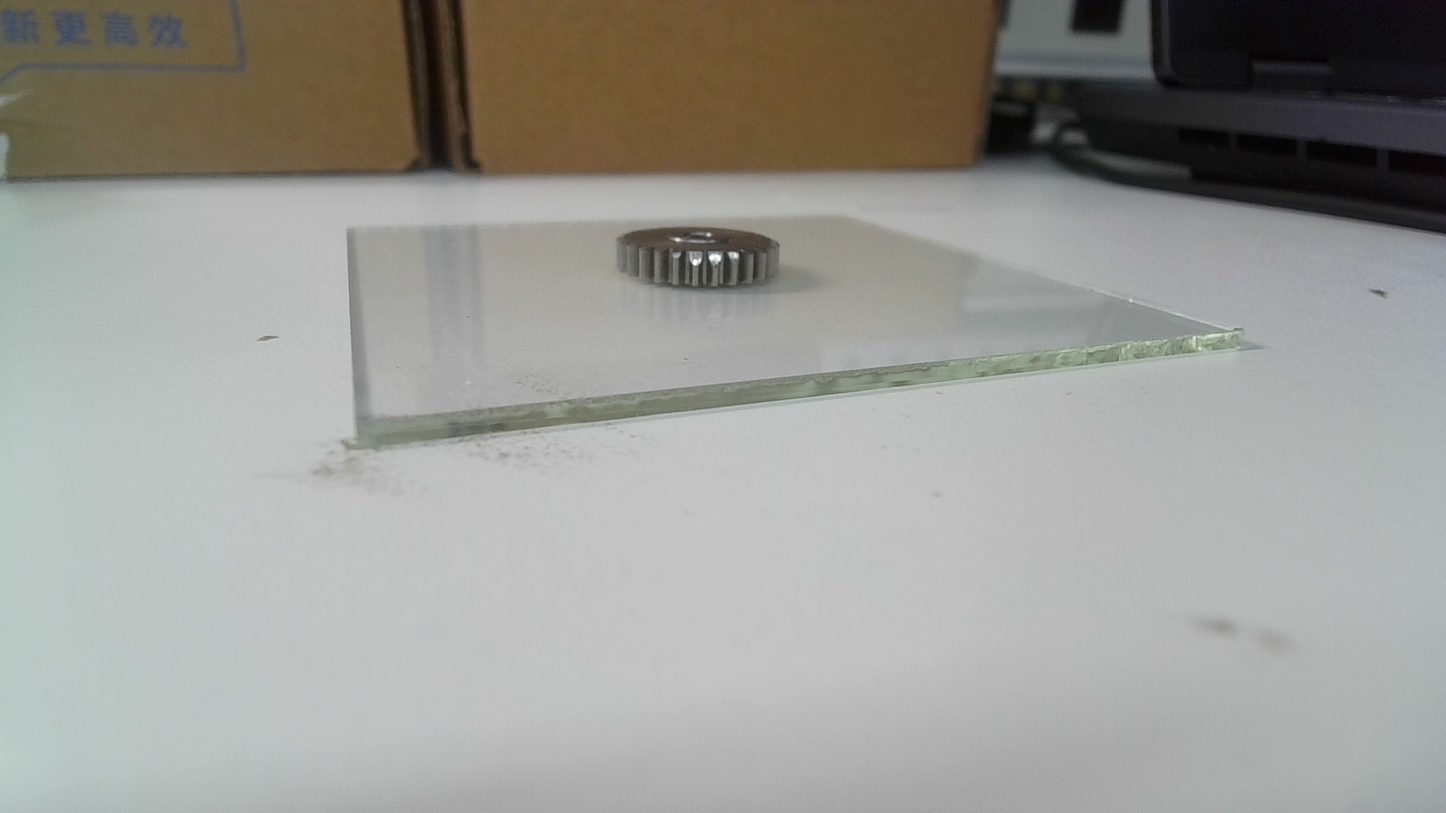gear: (613, 224, 783, 290)
